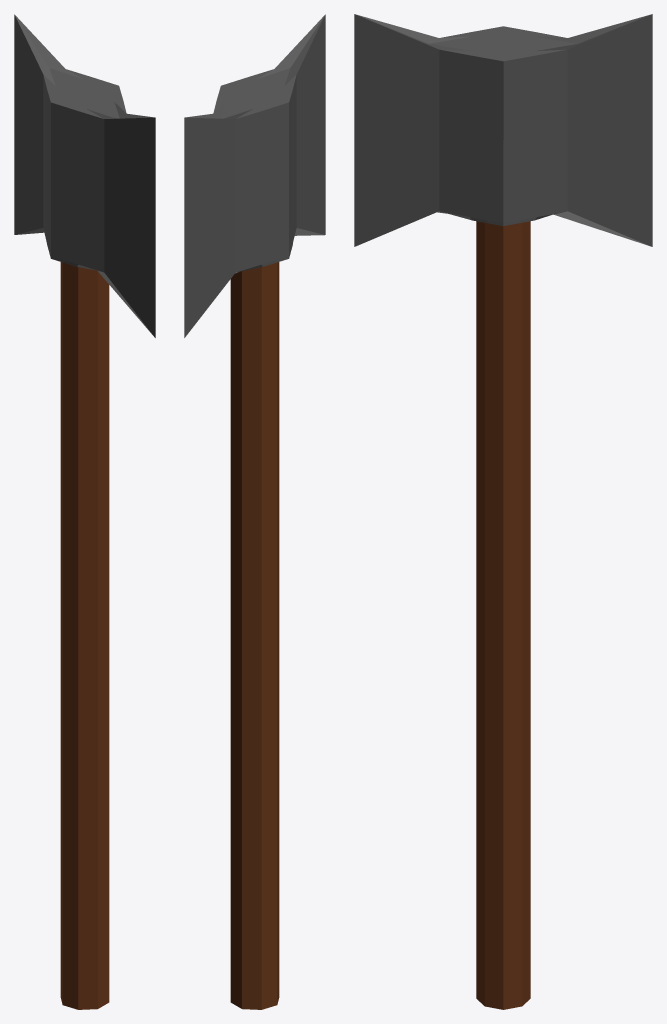
The model's file is TwoHandedAxe.fbx.
The picture shows the model from 3 angles, left to right: view 1: azimuth 30°, elevation 25°; view 2: azimuth 150°, elevation 25°; view 3: azimuth 270°, elevation 25°; orthographic projection. The views are drawn at different scales.
Parts seen in each view (by area): view 1: TwoHandedAxe; view 2: TwoHandedAxe; view 3: TwoHandedAxe.
Part boxes in pixels (x1,y1,x2,y2): TwoHandedAxe: (14, 14, 155, 1009); TwoHandedAxe: (184, 14, 325, 1009); TwoHandedAxe: (354, 14, 652, 1009).
Bounding box in the file's own units: 200 × 2615 × 718.
